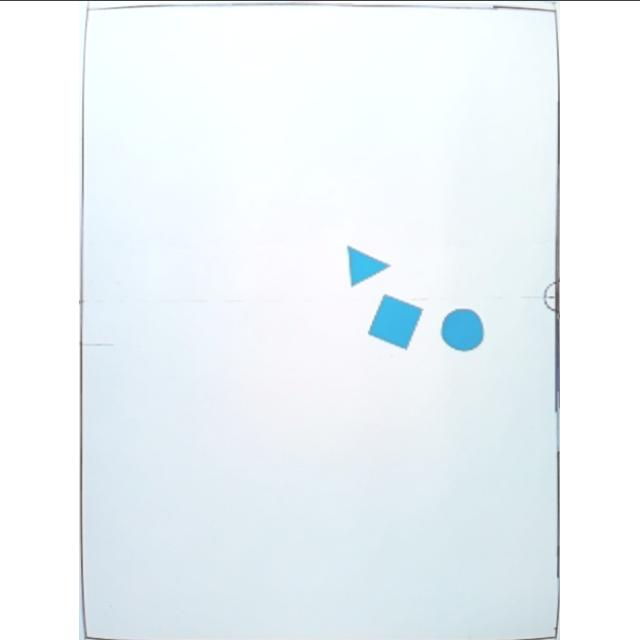blueCircle: (440, 306, 488, 352)
blueSquare: (369, 290, 425, 350)
blueTriangle: (346, 241, 396, 287)
